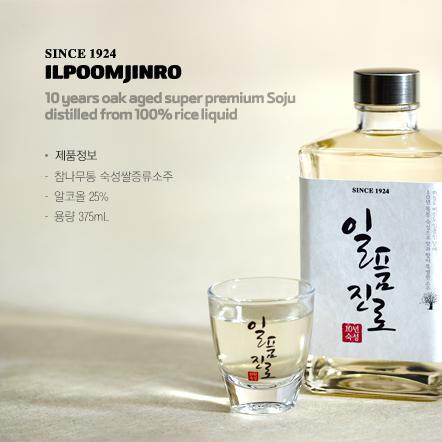soju: (294, 63, 442, 407)
